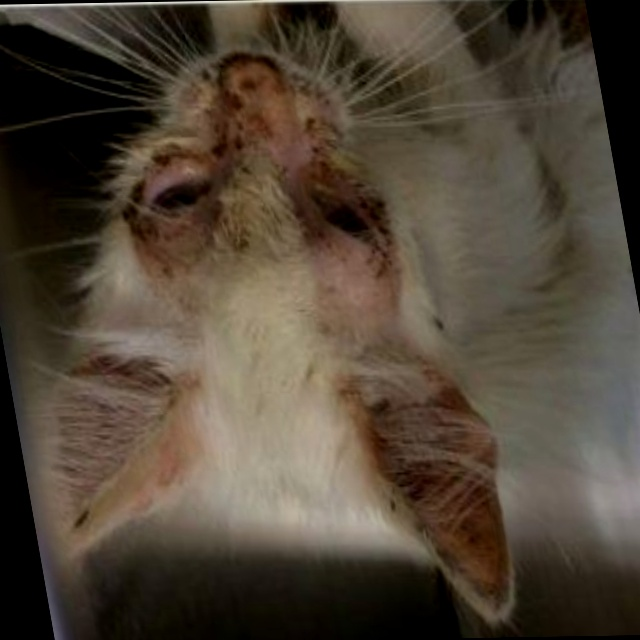ringworm: (293, 217, 391, 300), (200, 88, 290, 166), (122, 217, 214, 291), (299, 129, 353, 202)
